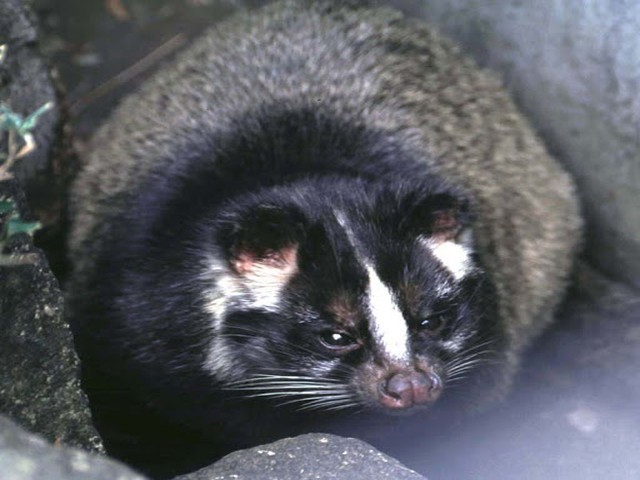civet: (67, 3, 585, 416)
